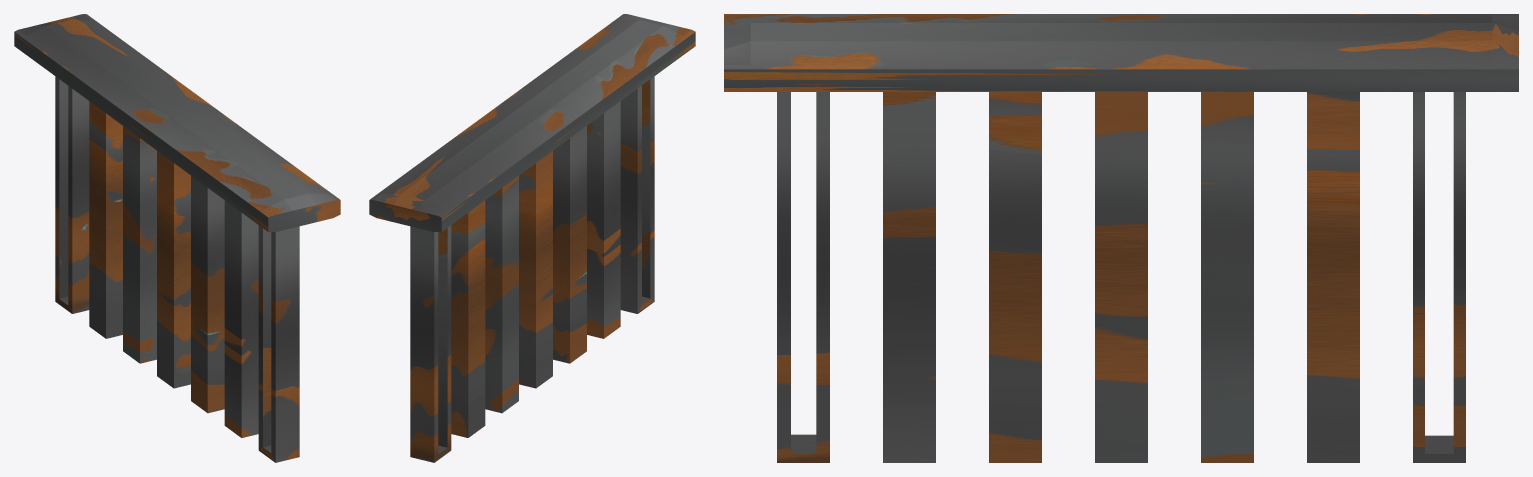
Rendered from Railing.fbx.
The picture shows the model from 3 angles, left to right: view 1: azimuth 30°, elevation 25°; view 2: azimuth 150°, elevation 25°; view 3: azimuth 270°, elevation 25°; orthographic projection. The views are drawn at different scales.
Parts seen in each view (by area): view 1: Cube.001; view 2: Cube.001; view 3: Cube.001.
Part boxes in pixels (<box>): Cube.001: <box>14,14,340,462</box>; Cube.001: <box>369,14,695,462</box>; Cube.001: <box>724,14,1518,462</box>.
Size of the model in its own units: 82.85 by 295 by 504.
